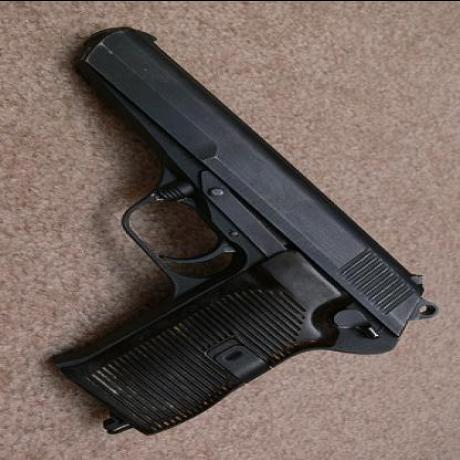weapon: (43, 23, 442, 437)
